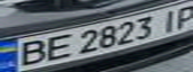2: (75, 26, 103, 55), (115, 18, 142, 47)
3: (133, 12, 163, 41)
8: (96, 22, 121, 51)
B: (9, 37, 51, 69)
E: (39, 33, 75, 62)
I: (154, 6, 187, 34)
P: (169, 2, 193, 30)
